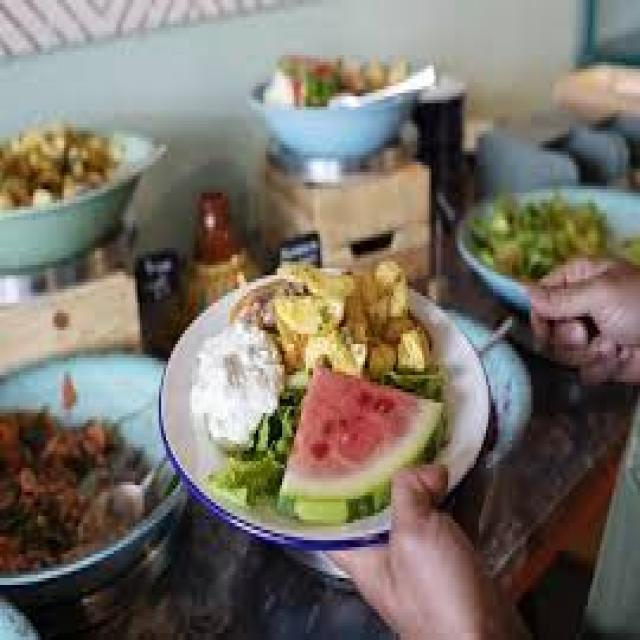Organik: (190, 246, 484, 521), (0, 379, 192, 589), (242, 30, 449, 162), (2, 106, 183, 244), (466, 177, 640, 286)
